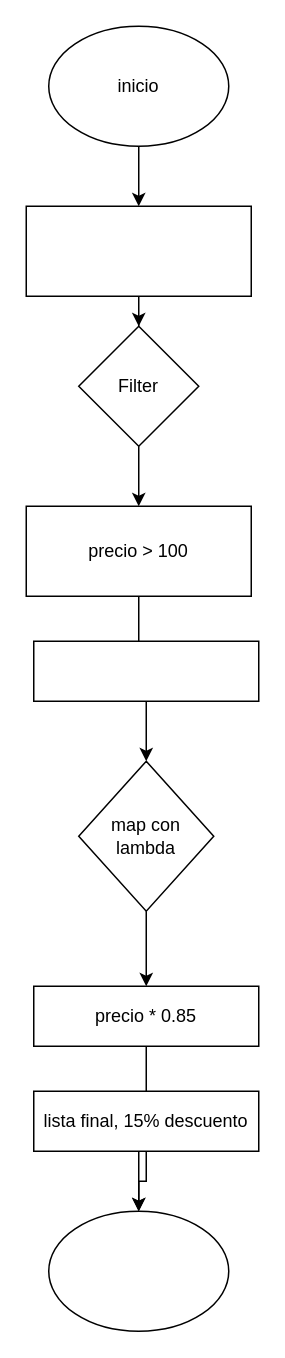
Some shapes in this 285 by 1358 pixel diagram are drawn without their labels. The shapes that lost their labels are listed below. From the top down, each one's centre as x and y in pixels, then its label:
the point at 138,250: lista inicial: precios
the point at 145,670: lista filtrada
the point at 138,1270: Fin
